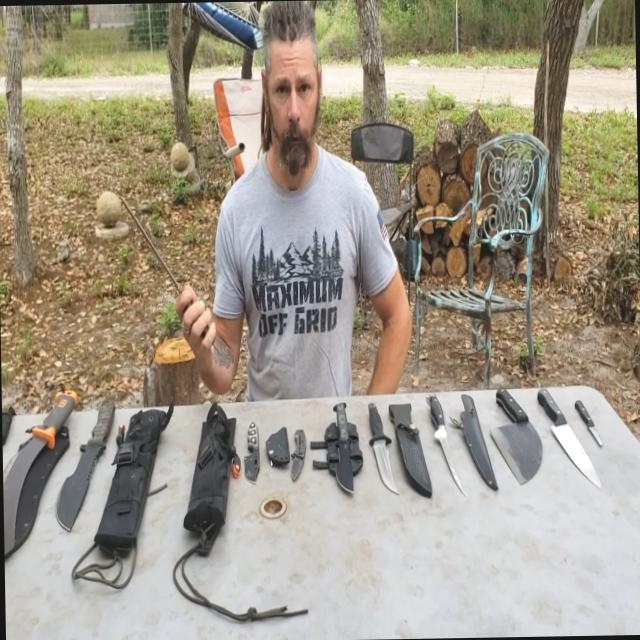knife: (1, 374, 80, 557), (50, 384, 120, 536), (528, 368, 602, 495), (485, 366, 543, 492), (422, 374, 470, 504), (359, 376, 404, 496), (571, 384, 617, 465), (329, 384, 356, 506), (238, 394, 264, 501), (280, 414, 316, 489)
